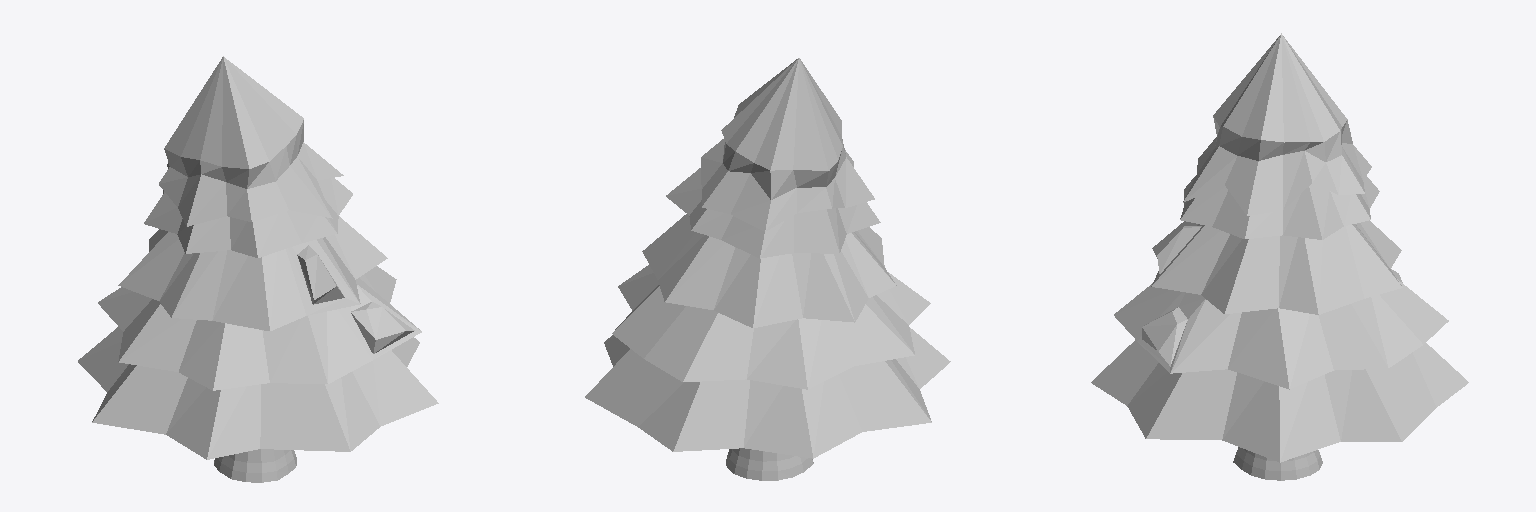
The model's file is tree.obj.
3 renders of one model, left to right at view 1: azimuth 30°, elevation 25°; view 2: azimuth 150°, elevation 25°; view 3: azimuth 270°, elevation 25°, orthographic.
Parts seen in each view (by area): view 1: tree3.001_Circle.004; view 2: tree3.001_Circle.004; view 3: tree3.001_Circle.004.
Part boxes in pixels (bbox=[...]): tree3.001_Circle.004: bbox=[78, 56, 438, 482]; tree3.001_Circle.004: bbox=[585, 58, 950, 480]; tree3.001_Circle.004: bbox=[1091, 33, 1468, 480].
Size of the model in its own units: 4.44 by 5.35 by 4.44.